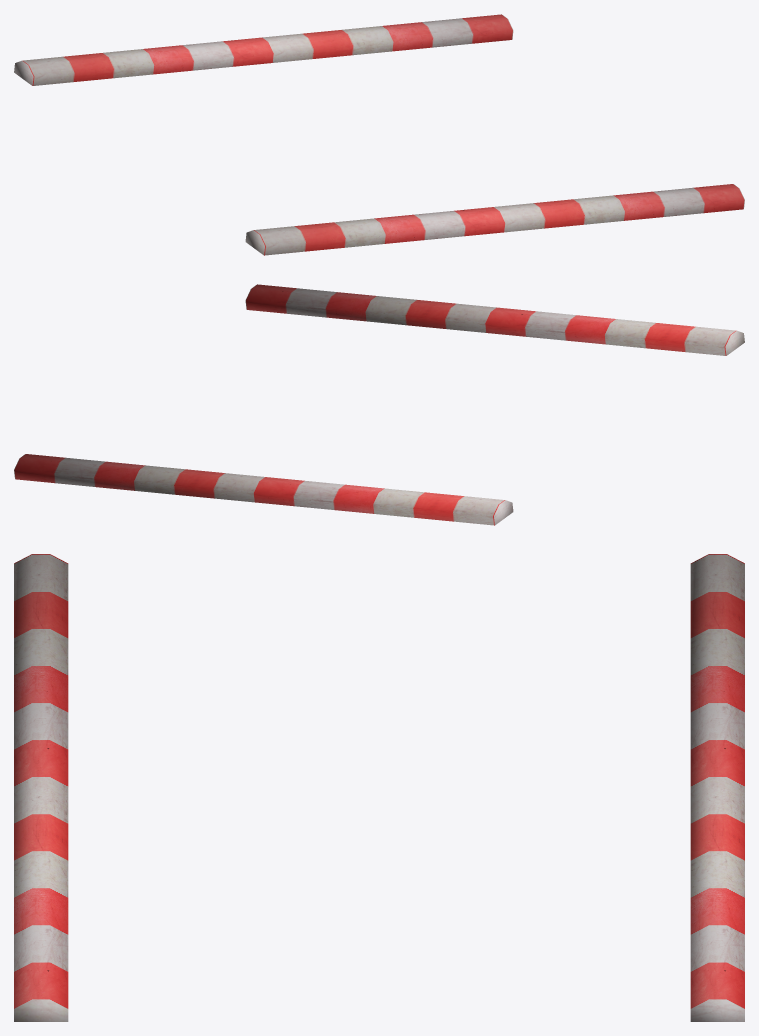
The model's file is crub_brick_angle3.fbx.
The picture shows the model from 3 angles, top to bottom: view 1: azimuth 30°, elevation 25°; view 2: azimuth 150°, elevation 25°; view 3: azimuth 270°, elevation 25°; orthographic projection. The views are drawn at different scales.
Parts seen in each view (by area): view 1: curb_brick_angle1; view 2: curb_brick_angle1; view 3: curb_brick_angle1.
Part boxes in pixels (x1,y1,x2,y2): curb_brick_angle1: [14, 14, 744, 255]; curb_brick_angle1: [14, 284, 744, 525]; curb_brick_angle1: [14, 554, 744, 1021].
Size of the model in its own units: 201 by 34.66 by 181.
